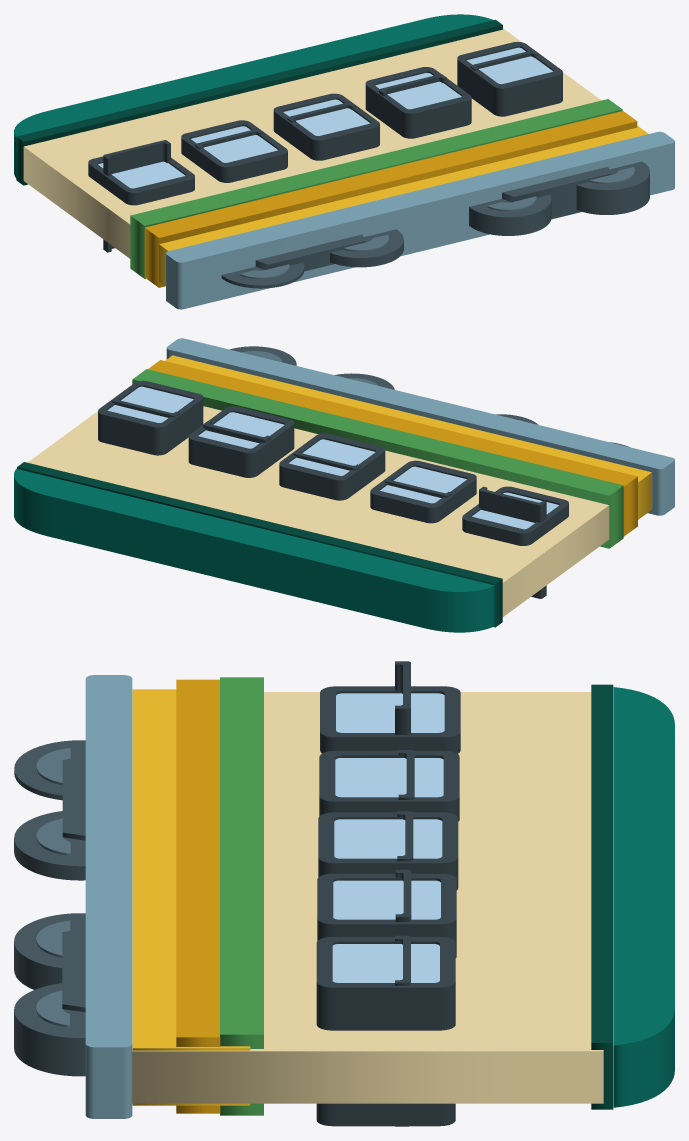
File: emoji_u1f683.glb
3 renders of one model, top to bottom at view 1: azimuth 30°, elevation 25°; view 2: azimuth 150°, elevation 25°; view 3: azimuth 270°, elevation 25°, orthographic. The views are drawn at different scales.
Parts seen in each view (by area): view 1: emoji_u1f683; view 2: emoji_u1f683; view 3: emoji_u1f683.
Part boxes in pixels (left/top/right/bottom): emoji_u1f683: left=14, top=14, right=674, bottom=309; emoji_u1f683: left=14, top=338, right=674, bottom=632; emoji_u1f683: left=14, top=661, right=674, bottom=1126.
Bounding box in the file's own units: 0.0334 × 0.006 × 0.0251.
